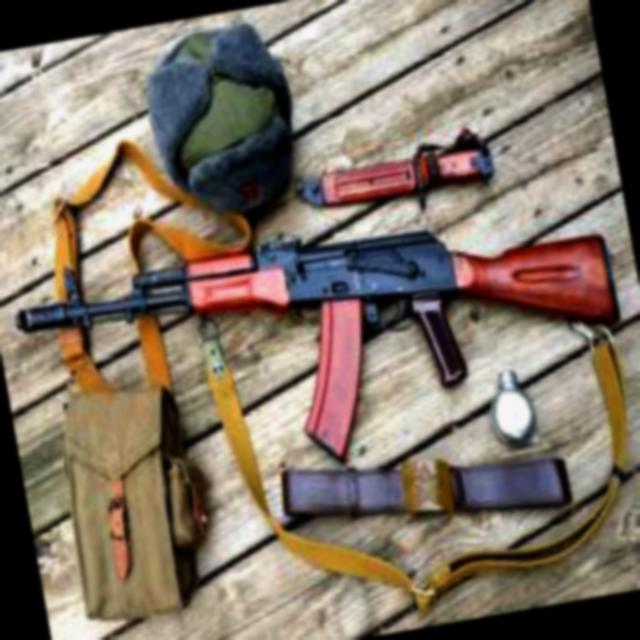ak: (0, 169, 639, 511)
